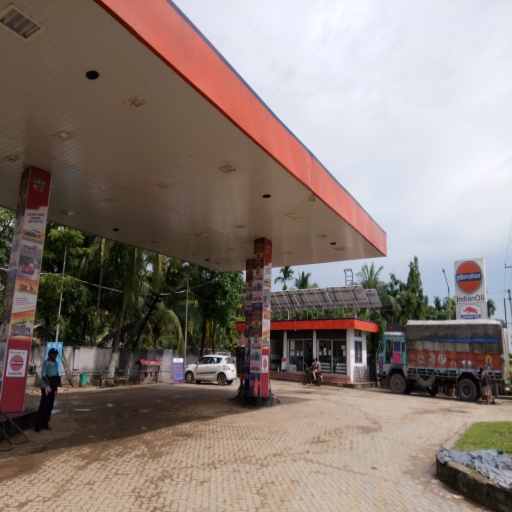roof: (1, 1, 381, 281)
